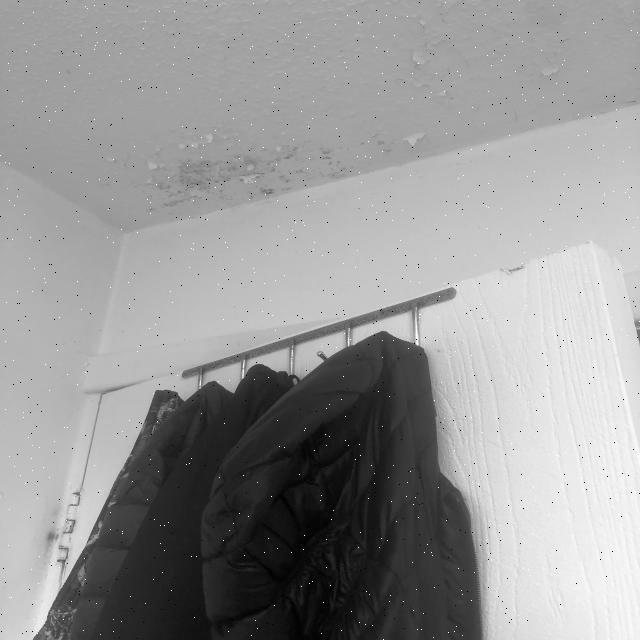stain marks: (102, 119, 423, 243)
